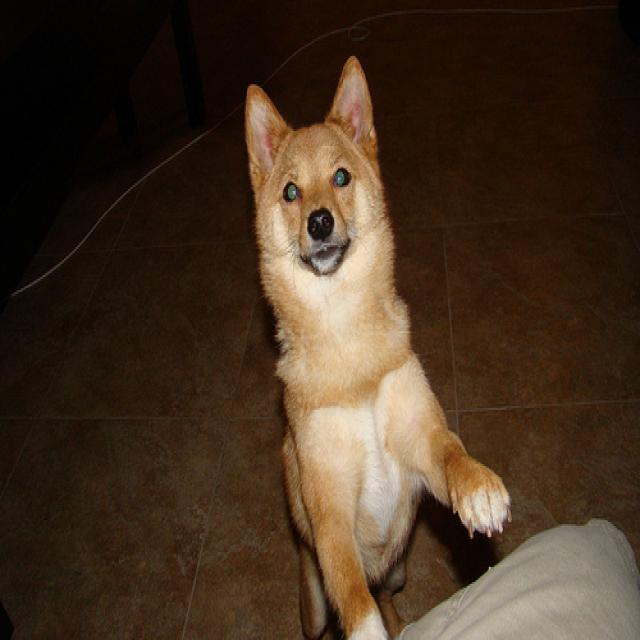dog-shiba_inu: (238, 47, 515, 636)
